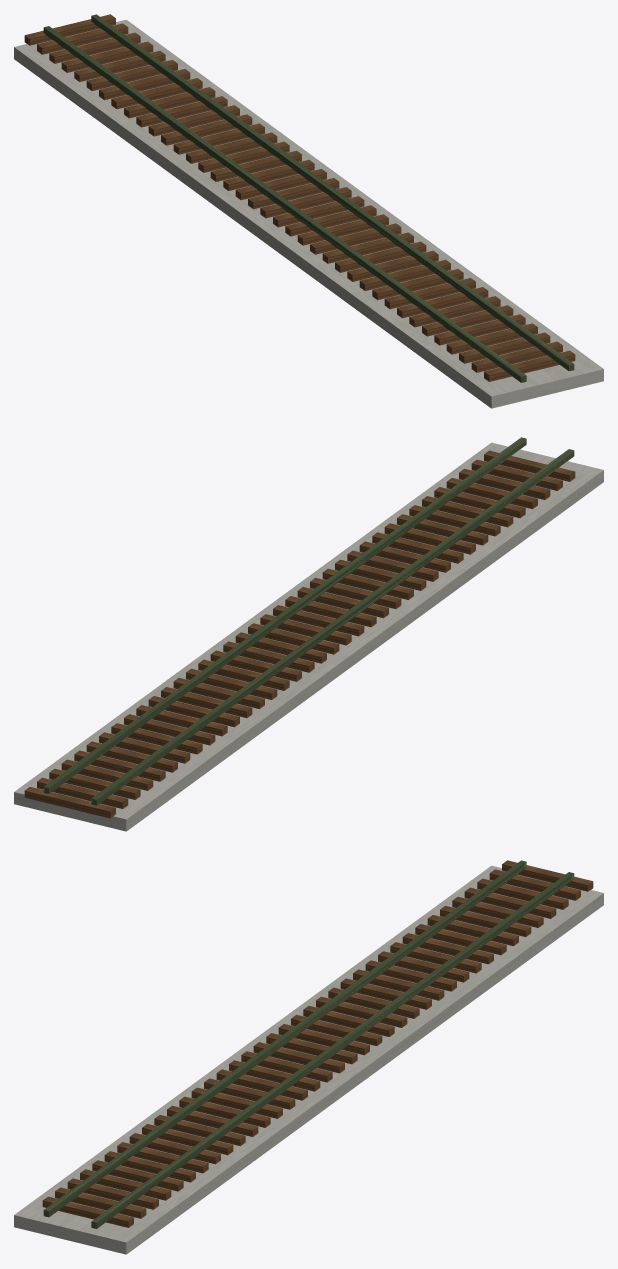
File: rail_segment.fbx
3 renders of one model, top to bottom at view 1: azimuth 30°, elevation 25°; view 2: azimuth 150°, elevation 25°; view 3: azimuth 330°, elevation 25°, orthographic.
Visible parts, largest first — view 1: ballast, rail-1, rail1.001, sleeper0, sleeper3, sleeper26, sleeper34, sleeper12, sleeper14, sleeper17, sleeper23, sleeper31 (+29 smaller); view 2: ballast, rail1.001, rail-1, sleeper0, sleeper1, sleeper3, sleeper16, sleeper10, sleeper19, sleeper2, sleeper27, sleeper32 (+29 smaller); view 3: ballast, rail1.001, rail-1, sleeper0, sleeper3, sleeper26, sleeper34, sleeper12, sleeper14, sleeper17, sleeper23, sleeper31 (+29 smaller).
Boxes of the visible parts, x1,y1,x2,y2 form: ballast: [14, 19, 603, 408]; rail-1: [91, 14, 574, 371]; rail1.001: [43, 26, 526, 382]; sleeper0: [24, 14, 115, 45]; sleeper3: [61, 41, 153, 72]; sleeper26: [347, 250, 438, 281]; sleeper34: [446, 323, 537, 354]; sleeper12: [173, 123, 264, 154]; sleeper14: [198, 141, 289, 172]; sleeper17: [235, 169, 326, 199]; sleeper23: [310, 223, 401, 254]; sleeper31: [409, 296, 500, 327]; ballast: [14, 442, 603, 831]; rail1.001: [91, 449, 574, 805]; rail-1: [43, 437, 526, 793]; sleeper0: [24, 787, 115, 818]; sleeper1: [37, 777, 128, 808]; sleeper3: [61, 759, 153, 790]; sleeper16: [223, 641, 314, 672]; sleeper10: [148, 696, 239, 727]; sleeper19: [260, 614, 351, 645]; sleeper2: [49, 768, 140, 799]; sleeper27: [359, 541, 450, 572]; sleeper32: [422, 496, 513, 527]; ballast: [14, 865, 603, 1254]; rail1.001: [43, 860, 526, 1217]; rail-1: [91, 872, 574, 1228]; sleeper0: [502, 860, 593, 891]; sleeper3: [464, 887, 556, 918]; sleeper26: [179, 1096, 270, 1127]; sleeper34: [80, 1169, 171, 1200]; sleeper12: [353, 969, 444, 1000]; sleeper14: [328, 987, 419, 1018]; sleeper17: [291, 1015, 382, 1045]; sleeper23: [216, 1069, 307, 1100]; sleeper31: [117, 1142, 208, 1173].
Size of the model in its own units: 340 by 71 by 2514.
